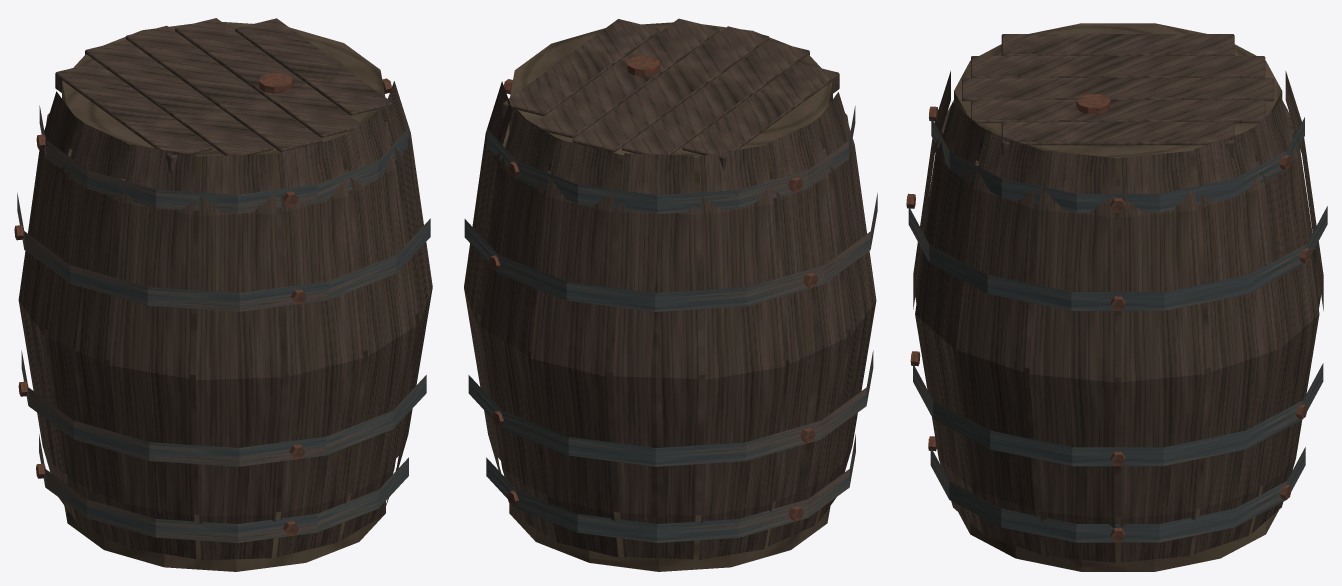
Rendered from barril_madera.glb.
The picture shows the model from 3 angles, left to right: view 1: azimuth 30°, elevation 25°; view 2: azimuth 150°, elevation 25°; view 3: azimuth 270°, elevation 25°; orthographic projection.
Visible parts, largest first — view 1: barril_madera; view 2: barril_madera; view 3: barril_madera.
Boxes of the visible parts, x1,y1,x2,y2 form: barril_madera: (14, 18, 432, 571); barril_madera: (464, 18, 877, 571); barril_madera: (906, 23, 1327, 571).
Bounding box in the file's own units: 0.6856 × 0.762 × 0.6876.
Materials: 1 (1 with a texture image).
